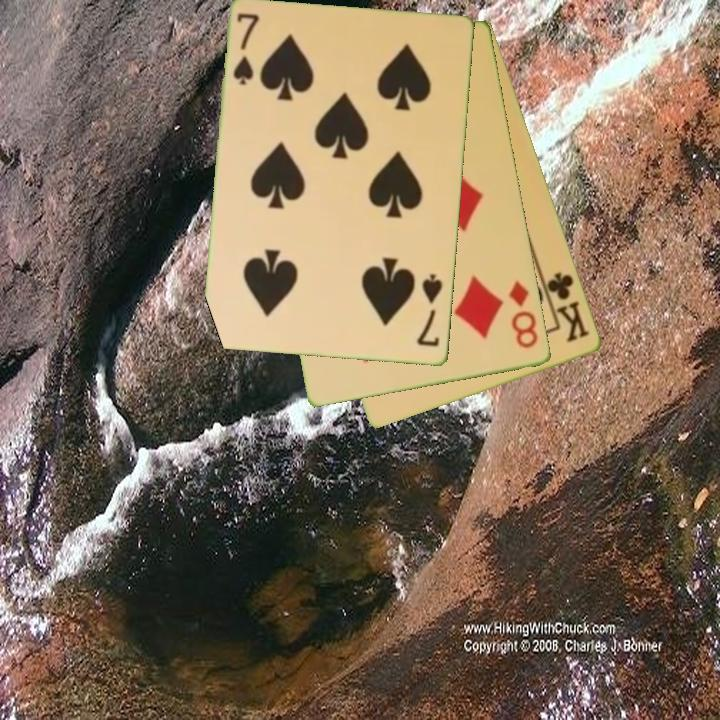7s: (414, 271, 446, 350), (230, 10, 262, 89)
8d: (506, 278, 542, 352)
Kc: (539, 268, 594, 346)
